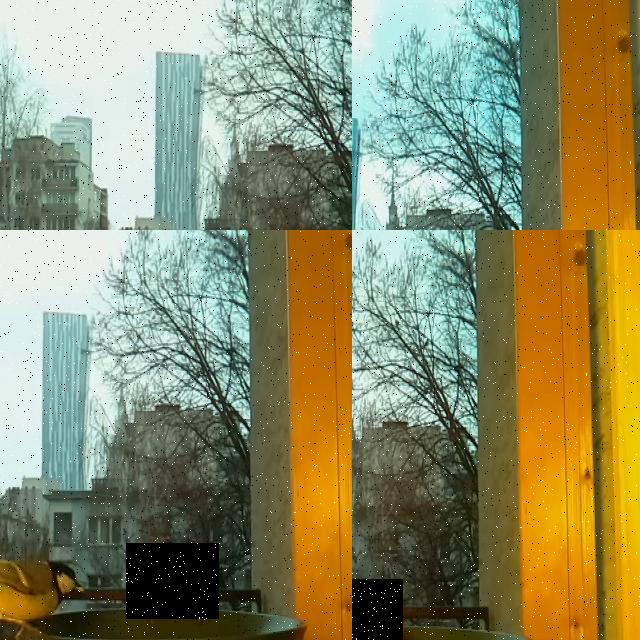Bogatka: (0, 551, 83, 631), (352, 579, 403, 640)
Wrobel: (126, 543, 219, 619)
